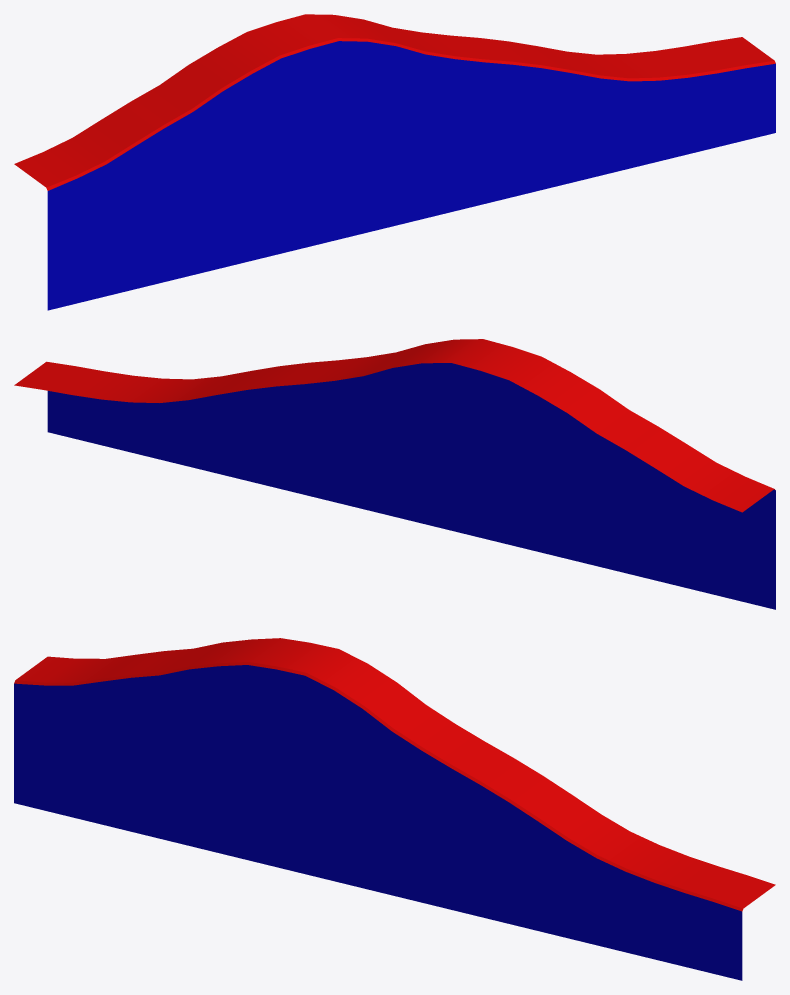
File: piece 1 Air.fbx
3 views of the same model, one above another, from view 1: azimuth 30°, elevation 25°; view 2: azimuth 150°, elevation 25°; view 3: azimuth 330°, elevation 25° (orthographic).
Parts seen in each view (by area): view 1: piece_1; view 2: piece_1; view 3: piece_1.
Part boxes in pixels (box(x1,y1,x2,y2)): piece_1: box(14, 14, 775, 310); piece_1: box(14, 339, 775, 609); piece_1: box(14, 638, 775, 980).
Size of the model in its own units: 25 by 6.58 by 2.
